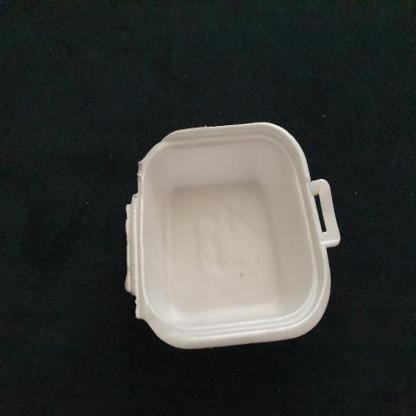Glass Cup: (123, 123, 340, 349), (125, 123, 341, 350)
